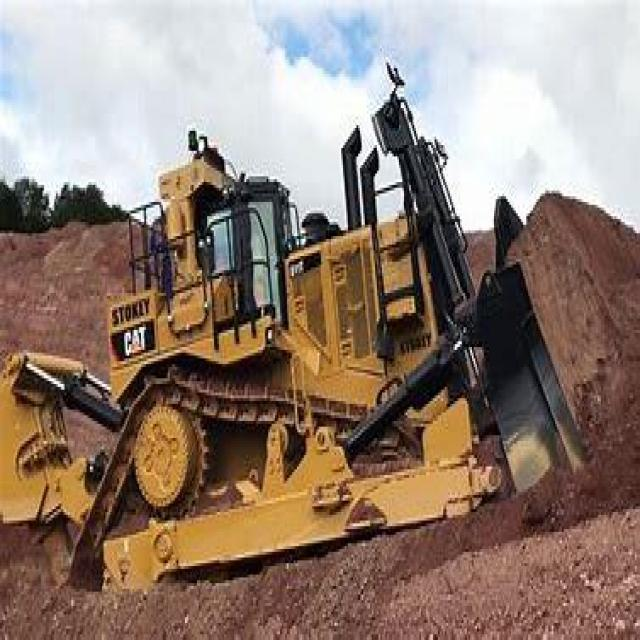Bulldozer: (3, 57, 600, 620)
